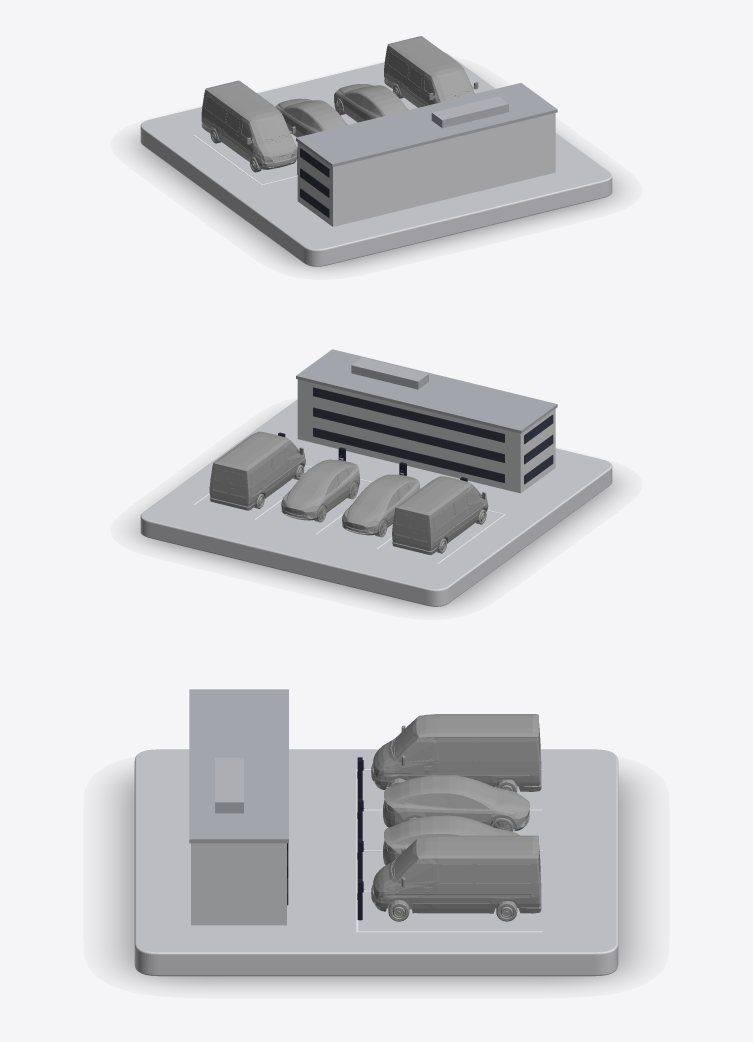
File: sett-scroll-probleem-2027.glb
The picture shows the model from 3 angles, top to bottom: view 1: azimuth 30°, elevation 25°; view 2: azimuth 150°, elevation 25°; view 3: azimuth 270°, elevation 25°; orthographic projection. The views are drawn at different scales.
Visible parts, largest first — view 1: object 1, building, van, contact_shadow, scroll_drive, car (×2); view 2: object 1, building, car (×2), van, scroll_drive, contact_shadow; view 3: object 1, building, scroll_drive, contact_shadow, van, car (×2).
Part boxes in pixels (bbox=[...]): object 1: bbox=[140, 52, 612, 266]; building: bbox=[296, 83, 557, 226]; van: bbox=[201, 80, 297, 172]; contact_shadow: bbox=[135, 137, 617, 269]; scroll_drive: bbox=[384, 36, 478, 107]; car (×2): bbox=[275, 84, 408, 137]; object 1: bbox=[140, 399, 612, 606]; building: bbox=[296, 349, 557, 493]; car (×2): bbox=[281, 459, 420, 537]; van: bbox=[392, 476, 488, 555]; scroll_drive: bbox=[209, 431, 305, 510]; contact_shadow: bbox=[135, 477, 617, 609]; object 1: bbox=[134, 749, 618, 976]; building: bbox=[189, 689, 288, 925]; scroll_drive: bbox=[371, 835, 541, 921]; contact_shadow: bbox=[114, 774, 638, 985]; van: bbox=[371, 714, 541, 792]; car (×2): bbox=[383, 775, 529, 865].
Size of the model in its own units: 2268 by 419 by 2268.
12 materials, 1 textured.
